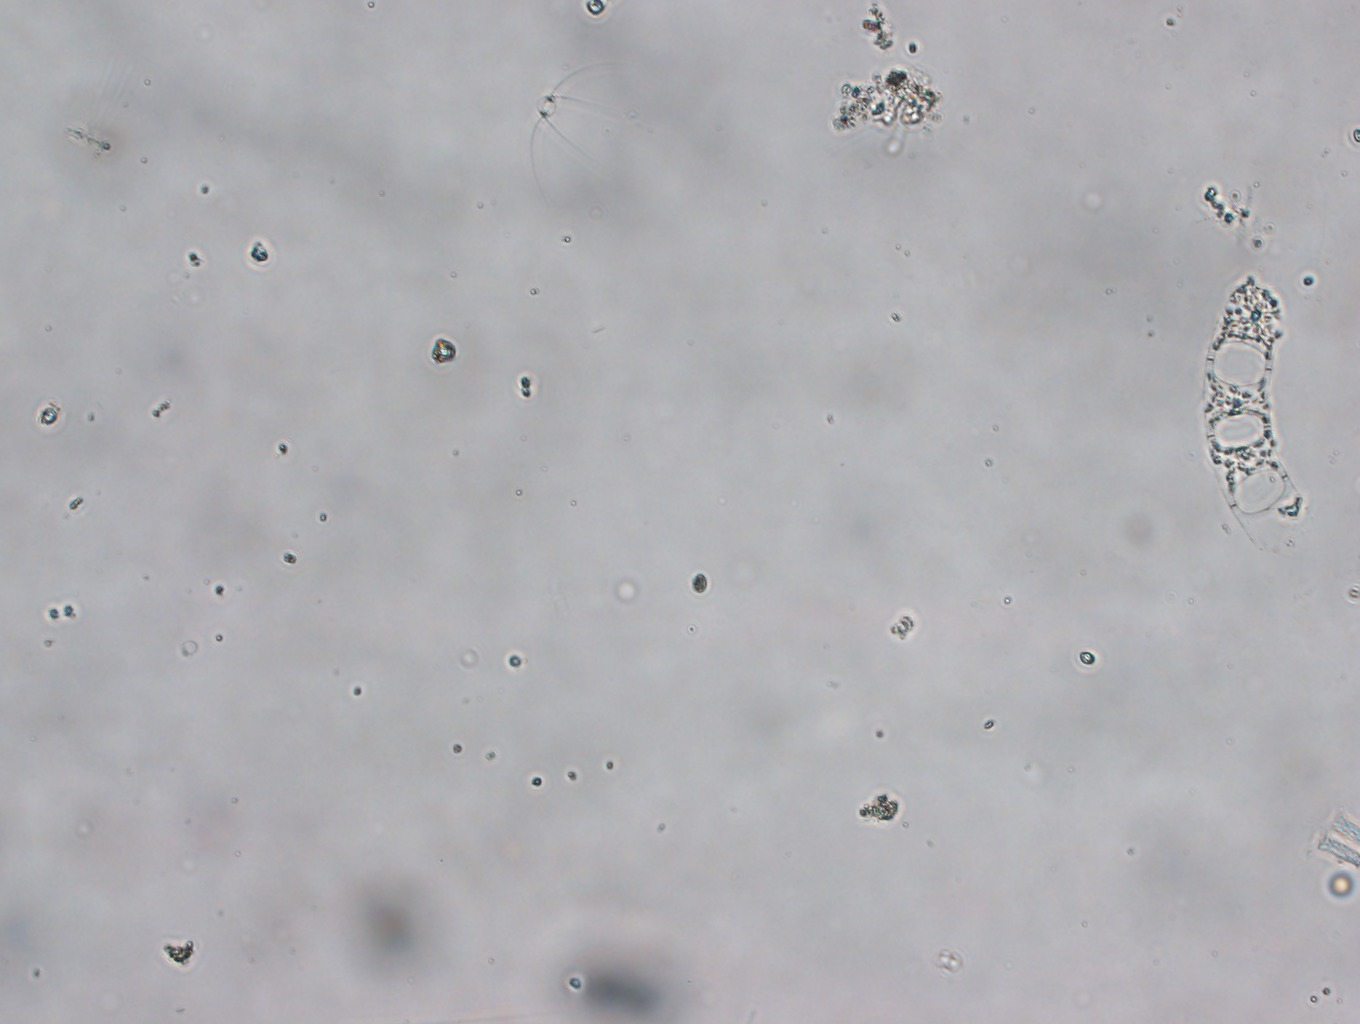eucampia: (1196, 266, 1301, 552)
